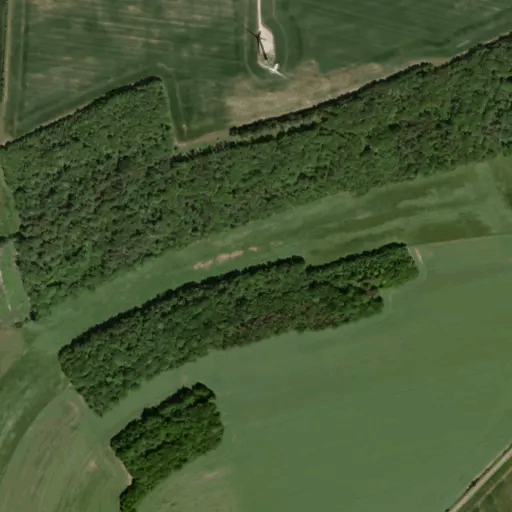wt: (241, 23, 292, 81)
